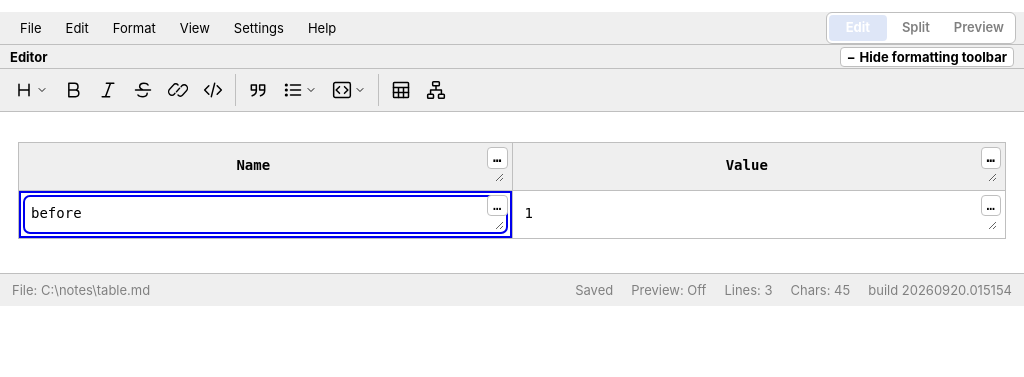
Test: App table editing lifecycle › waits for cell composition before exporting a PDF snapshot
Expected: the element with class "koharu-table-wrap" is shown, [18,142,1006,239]
Replace the text in the text box named "Row 1, column 1" with "日本語" at (265, 214), box [27,199,504,230]
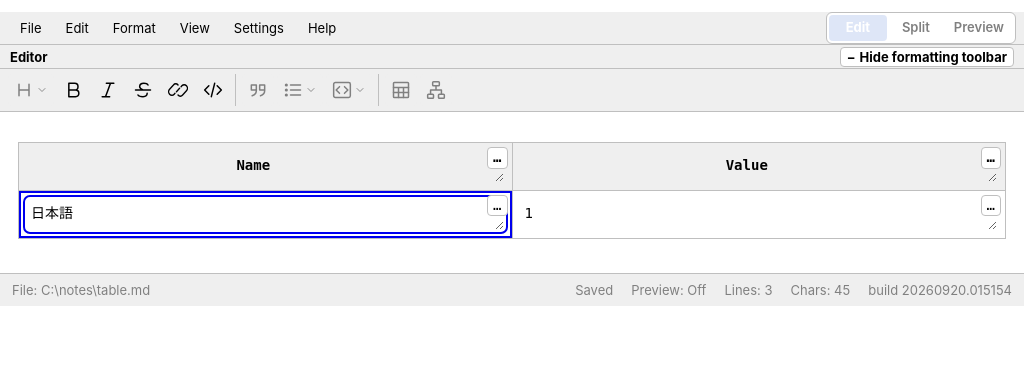
Click the button "File" at (31, 28), box [8,12,54,44]
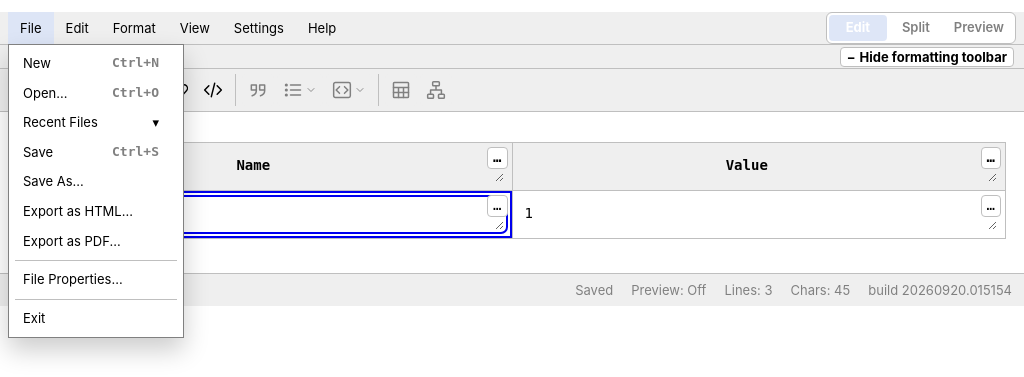
Click the menu item "Export as PDF..." at (96, 241), box [13,227,179,256]
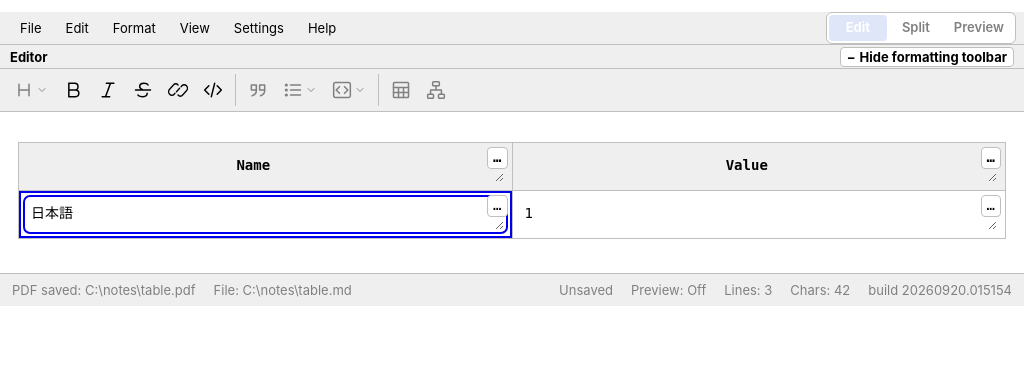
Expected: the footer with class "statusbar" shows "Unsaved", [559,282,613,298]
